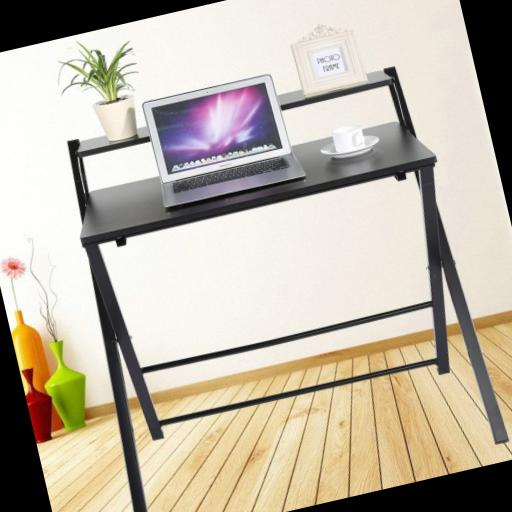desk: (48, 59, 509, 512)
wall: (0, 0, 512, 431)
